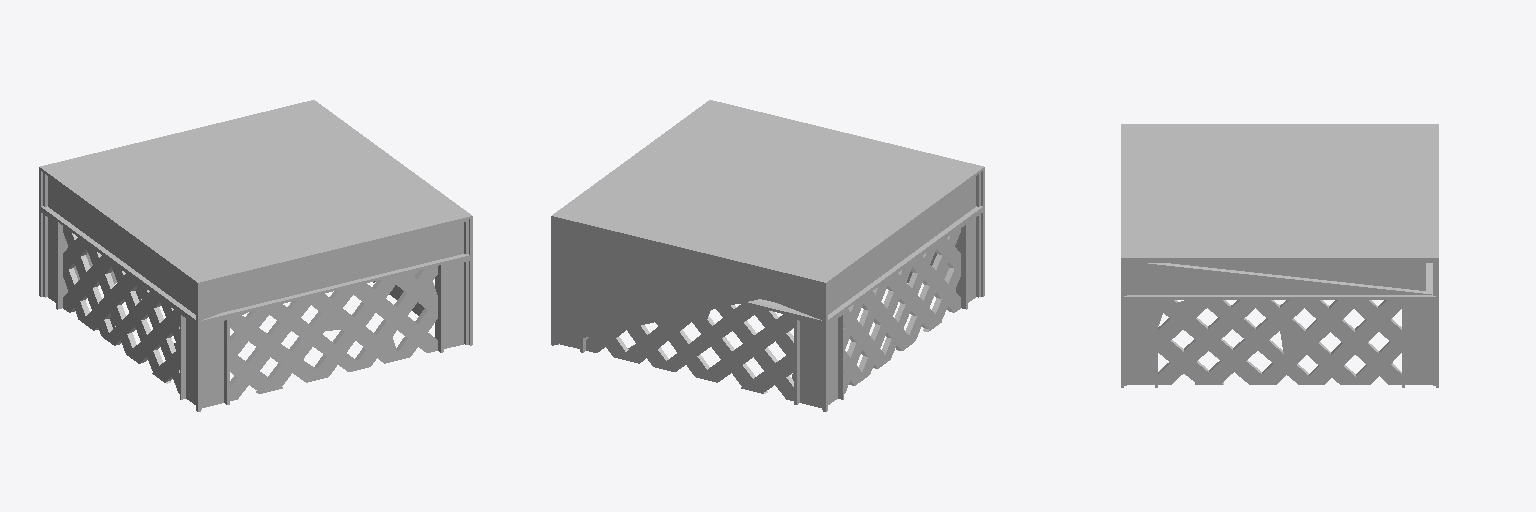
File: Half_Crate__188584_.obj
3 renders of one model, left to right at view 1: azimuth 30°, elevation 25°; view 2: azimuth 150°, elevation 25°; view 3: azimuth 270°, elevation 25°, orthographic.
Parts seen in each view (by area): view 1: Half_Crate__188584__temp_Half_Crate__188584_.002; view 2: Half_Crate__188584__temp_Half_Crate__188584_.002; view 3: Half_Crate__188584__temp_Half_Crate__188584_.002.
Part boxes in pixels (bbox=[...]): Half_Crate__188584__temp_Half_Crate__188584_.002: bbox=[39, 100, 472, 411]; Half_Crate__188584__temp_Half_Crate__188584_.002: bbox=[551, 100, 984, 411]; Half_Crate__188584__temp_Half_Crate__188584_.002: bbox=[1121, 124, 1438, 387].
Bounding box in the file's own units: 0.3334 × 0.15 × 0.3334.